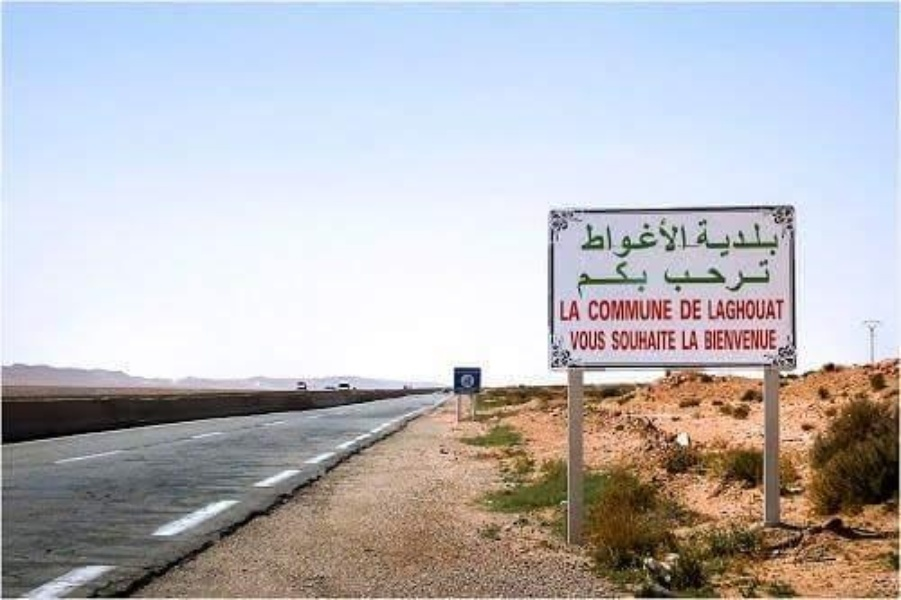text: (593, 217, 608, 260), (609, 217, 624, 260), (625, 217, 640, 260), (641, 217, 656, 260), (657, 217, 672, 260), (577, 260, 592, 301), (593, 260, 608, 301), (609, 260, 624, 301), (625, 260, 640, 301), (705, 219, 720, 260), (721, 219, 736, 260), (737, 219, 752, 260), (753, 219, 768, 260), (673, 217, 687, 260), (579, 217, 592, 260), (673, 258, 688, 292), (689, 258, 704, 292), (705, 258, 720, 292), (721, 258, 736, 292), (737, 258, 752, 292), (753, 258, 768, 292), (769, 219, 781, 260), (694, 219, 704, 260), (705, 328, 720, 352), (721, 328, 736, 352), (737, 328, 752, 352), (753, 328, 768, 352), (593, 298, 608, 321), (609, 298, 624, 321), (625, 298, 640, 321), (641, 298, 656, 321), (657, 298, 672, 321), (561, 300, 576, 323), (721, 298, 736, 321), (737, 298, 752, 321), (753, 298, 768, 321), (769, 298, 784, 321), (662, 258, 672, 292), (577, 330, 592, 352), (641, 260, 649, 301), (689, 298, 703, 321), (625, 330, 640, 350), (641, 330, 656, 350), (657, 330, 672, 350), (707, 298, 720, 321), (593, 330, 606, 352), (610, 330, 624, 350), (689, 328, 700, 352), (769, 328, 779, 352), (680, 298, 688, 321), (682, 328, 688, 352), (577, 300, 583, 323), (570, 330, 576, 352), (769, 258, 772, 292), (673, 330, 678, 350), (588, 298, 592, 321), (575, 260, 576, 301), (703, 328, 704, 352), (673, 298, 674, 321), (559, 300, 560, 323), (785, 298, 786, 321)
